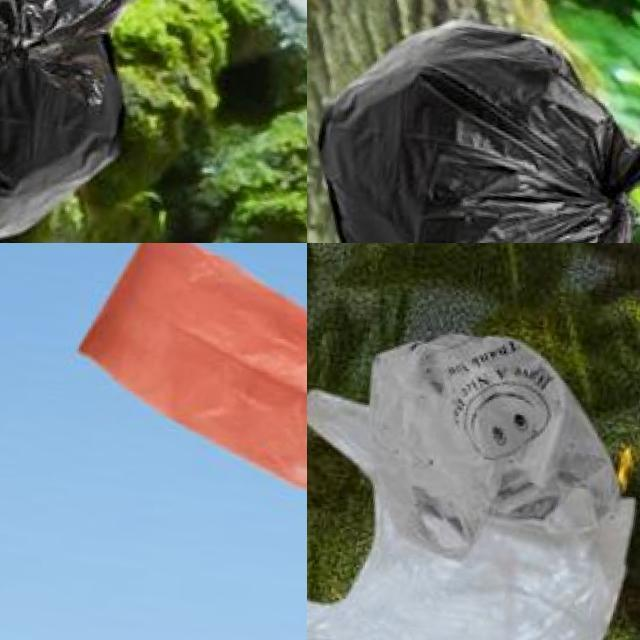waste: (307, 381, 640, 640), (307, 5, 640, 243), (71, 243, 307, 536), (358, 326, 634, 560), (0, 0, 152, 243)
